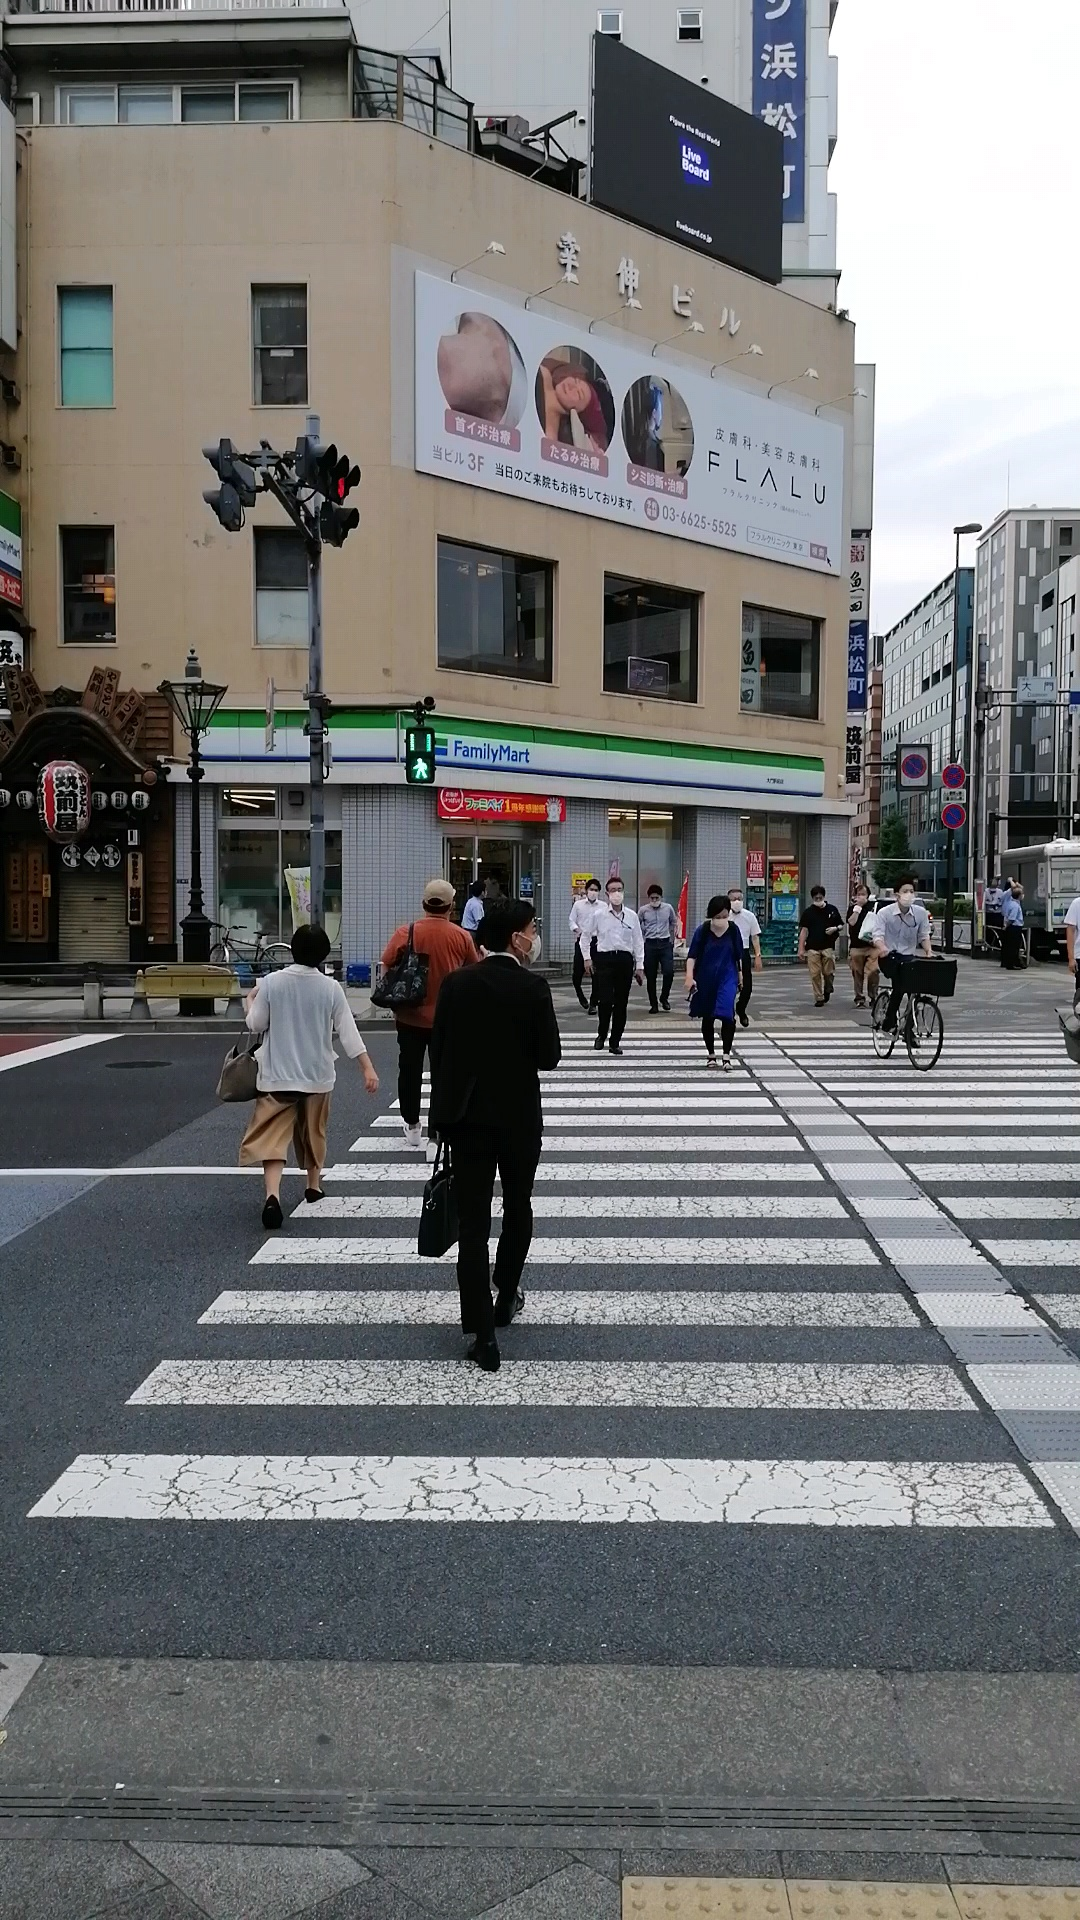green: (402, 723, 436, 789)
